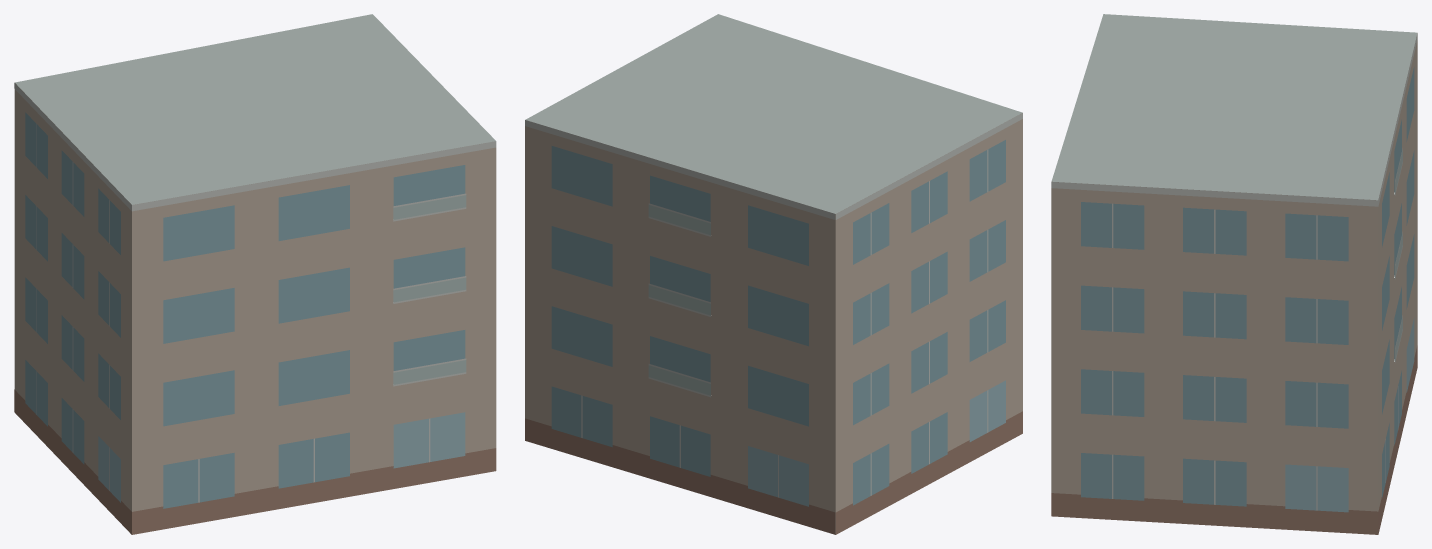
The model's file is survey-upis-32761886.glb.
The picture shows the model from 3 angles, left to right: view 1: azimuth 30°, elevation 25°; view 2: azimuth 150°, elevation 25°; view 3: azimuth 270°, elevation 25°; orthographic projection. The views are drawn at different scales.
Parts seen in each view (by area): view 1: survey-upis-32761886.tmp; view 2: survey-upis-32761886.tmp; view 3: survey-upis-32761886.tmp.
Boxes of the visible parts, <box> form: survey-upis-32761886.tmp: <box>14,14,496,534</box>; survey-upis-32761886.tmp: <box>525,14,1022,534</box>; survey-upis-32761886.tmp: <box>1051,14,1417,534</box>.
Bounding box in the file's own units: 15.13 × 12.67 × 12.58.
